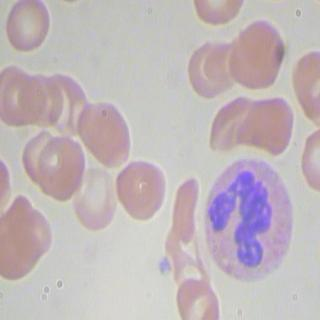Platelets: (153, 254, 173, 280)
RBC: (76, 96, 134, 170), (75, 96, 133, 170), (35, 130, 89, 200), (114, 158, 171, 220), (247, 90, 298, 158), (234, 18, 286, 80), (72, 166, 117, 232), (207, 92, 258, 150), (184, 38, 230, 96), (3, 0, 51, 54), (13, 202, 55, 262), (22, 70, 64, 130), (16, 126, 58, 186), (169, 174, 202, 244), (172, 274, 222, 318)
WBC: (199, 152, 295, 286)
